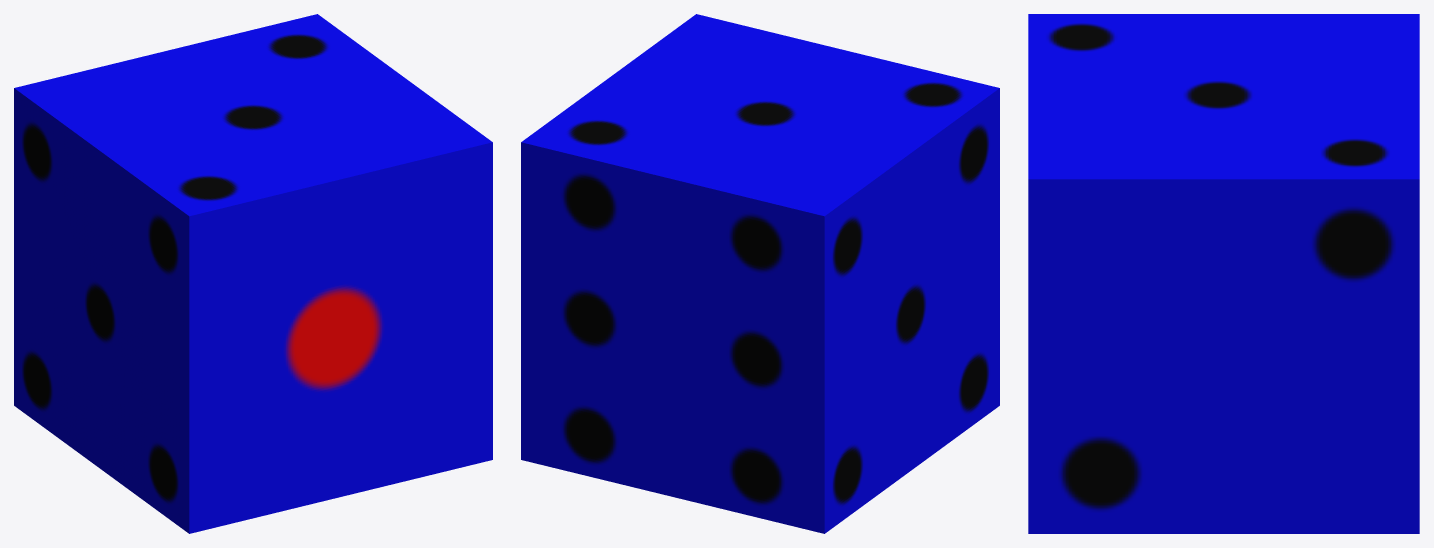
File: Dice.fbx
The picture shows the model from 3 angles, left to right: view 1: azimuth 30°, elevation 25°; view 2: azimuth 150°, elevation 25°; view 3: azimuth 270°, elevation 25°; orthographic projection. The views are drawn at different scales.
Parts seen in each view (by area): view 1: pCube3; view 2: pCube3; view 3: pCube3.
Boxes of the visible parts, left/top/right/bottom form: pCube3: left=14, top=14, right=492, bottom=533; pCube3: left=521, top=14, right=999, bottom=533; pCube3: left=1028, top=14, right=1419, bottom=533.
Bounding box in the file's own units: 1 × 1 × 1.
1 material, 1 textured.
